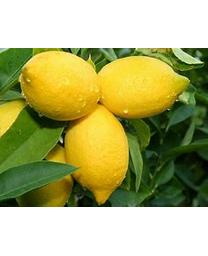lemon: (66, 104, 129, 204), (97, 58, 189, 118), (21, 52, 99, 120)
